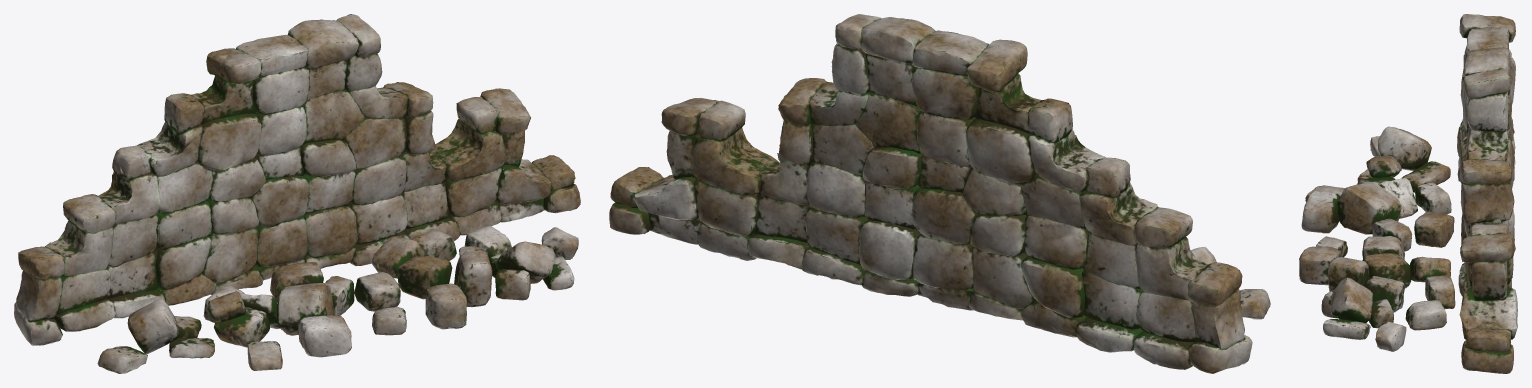
The model's file is broken_stone_wall.glb.
3 views of the same model, side by side, from view 1: azimuth 30°, elevation 25°; view 2: azimuth 150°, elevation 25°; view 3: azimuth 270°, elevation 25° (orthographic). The views are drawn at different scales.
Visible parts, largest first — view 1: Wall_Broken Wall Wall_0, Pieces_Broken Wall Pieces_0; view 2: Wall_Broken Wall Wall_0, Pieces_Broken Wall Pieces_0; view 3: Pieces_Broken Wall Pieces_0, Wall_Broken Wall Wall_0.
Boxes of the visible parts, box(x1,y1,x2,y2) form: Wall_Broken Wall Wall_0: box(14, 14, 580, 345); Pieces_Broken Wall Pieces_0: box(97, 226, 578, 373); Wall_Broken Wall Wall_0: box(609, 14, 1252, 373); Pieces_Broken Wall Pieces_0: box(1191, 247, 1270, 319); Pieces_Broken Wall Pieces_0: box(1299, 126, 1455, 351); Wall_Broken Wall Wall_0: box(1457, 14, 1517, 373).
Size of the model in its own units: 4.1 by 1.7 by 1.56.
Materials: 2 (2 with a texture image).
